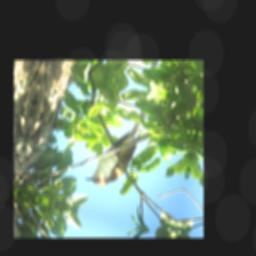Cuckoo: (82, 96, 150, 196)
